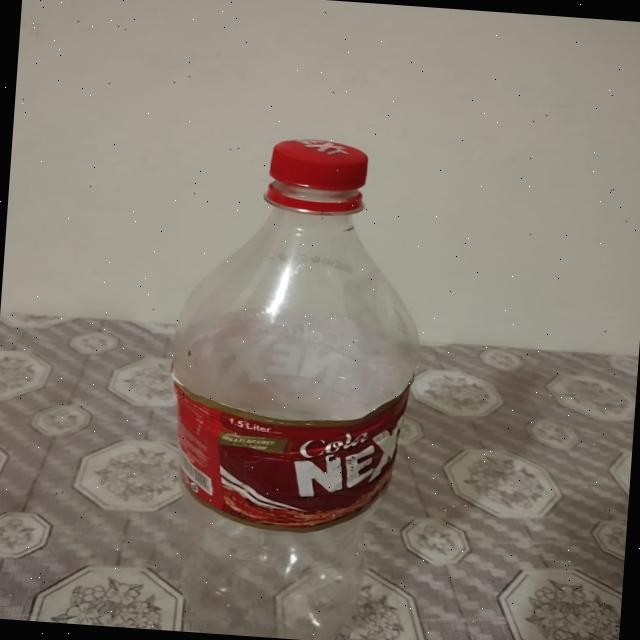bottle: (144, 119, 435, 640)
cap: (262, 134, 370, 219)
label: (157, 368, 410, 540)
